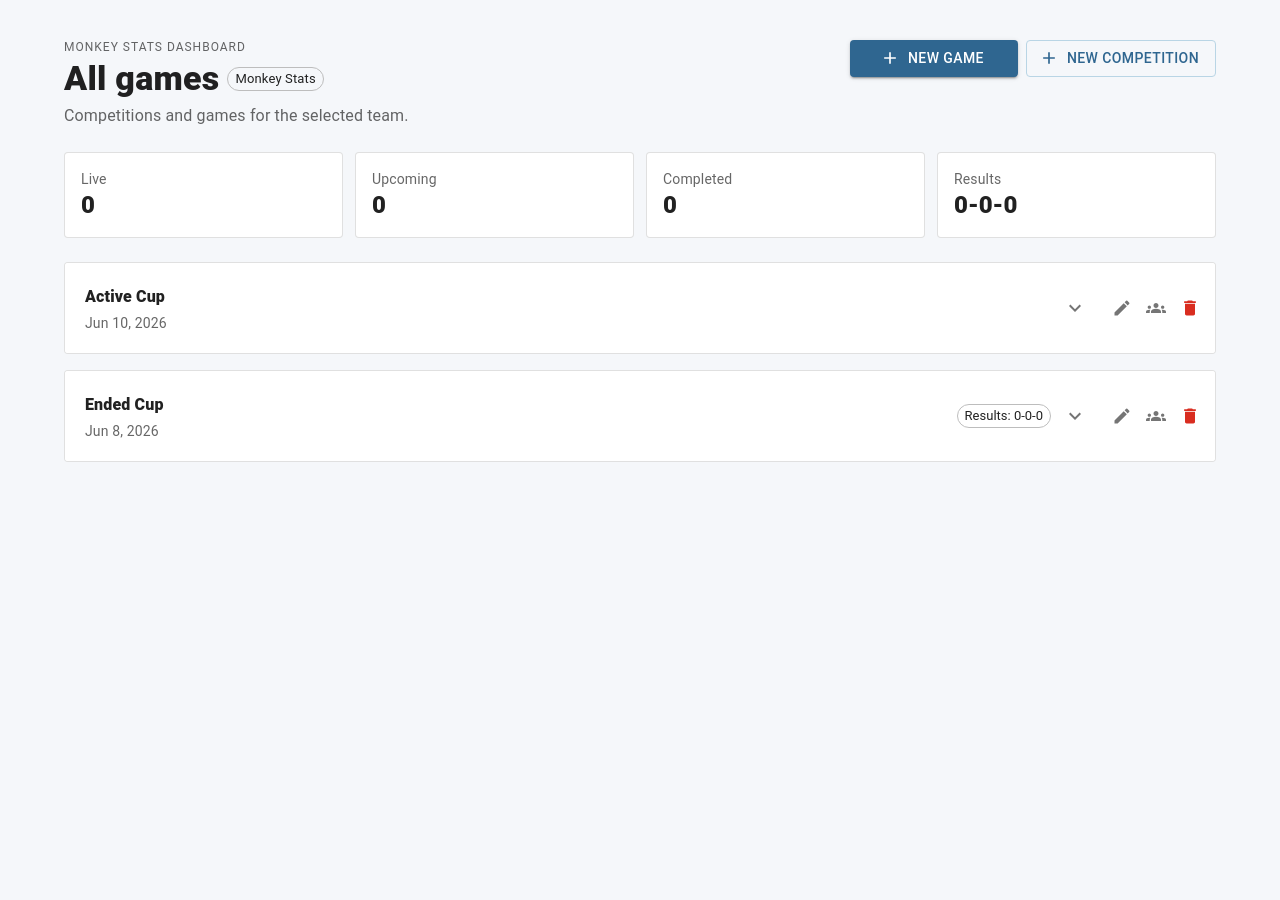
it: AllGamesPage › excludes over competitions from the New game competition dropdown
The image size is (1280, 900).
Click the button "New game". click: (934,58)
box: [850,40,1018,76]
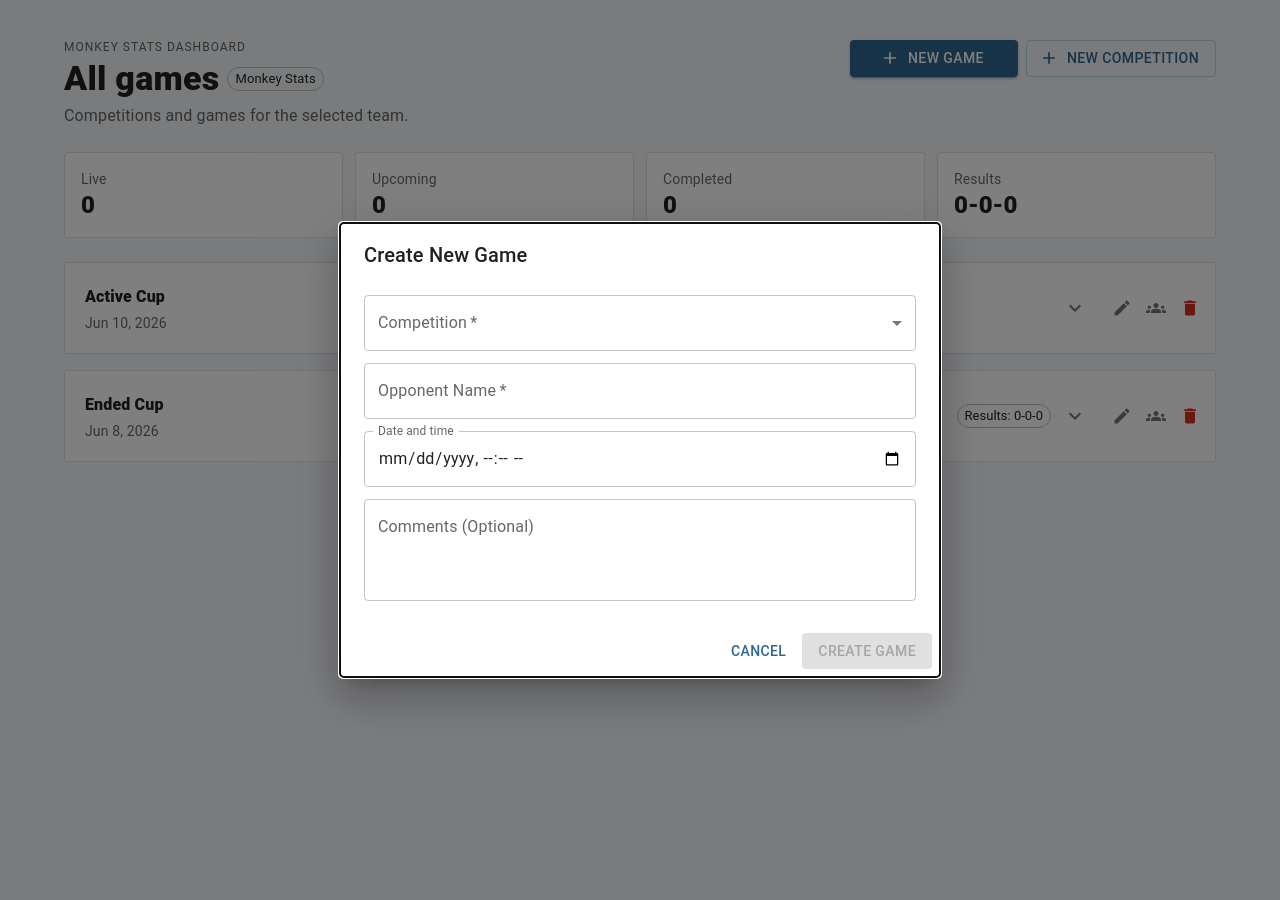
Result: the heading "Create New Game" is shown at [364,243,528,267]
Click the dropdown named "Competition". click: (640,323)
box: [364,295,916,351]
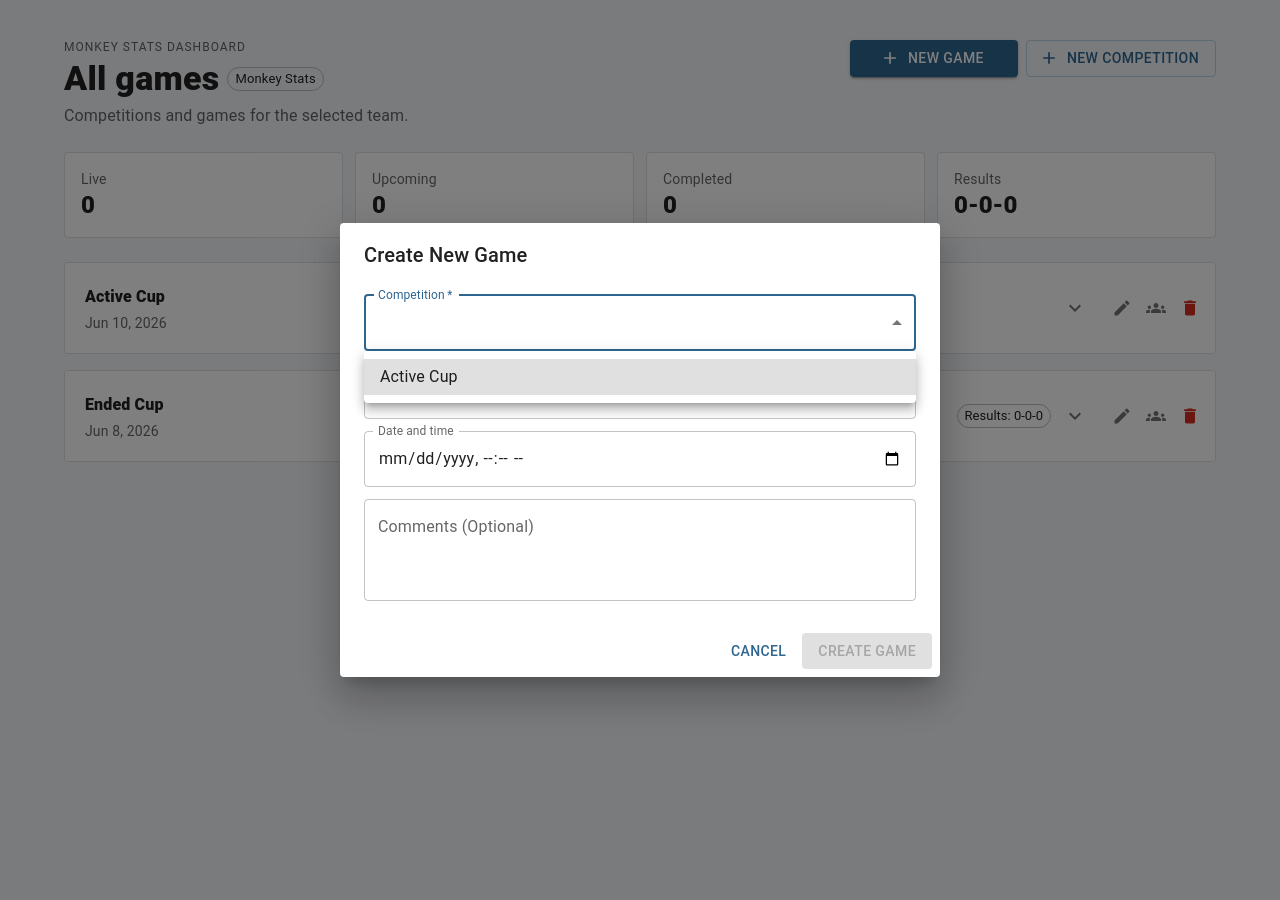
Expected: the list does not show "Ended Cup", [364,351,916,403]
Result: the list reads "Active Cup" at [380,367,458,386]
